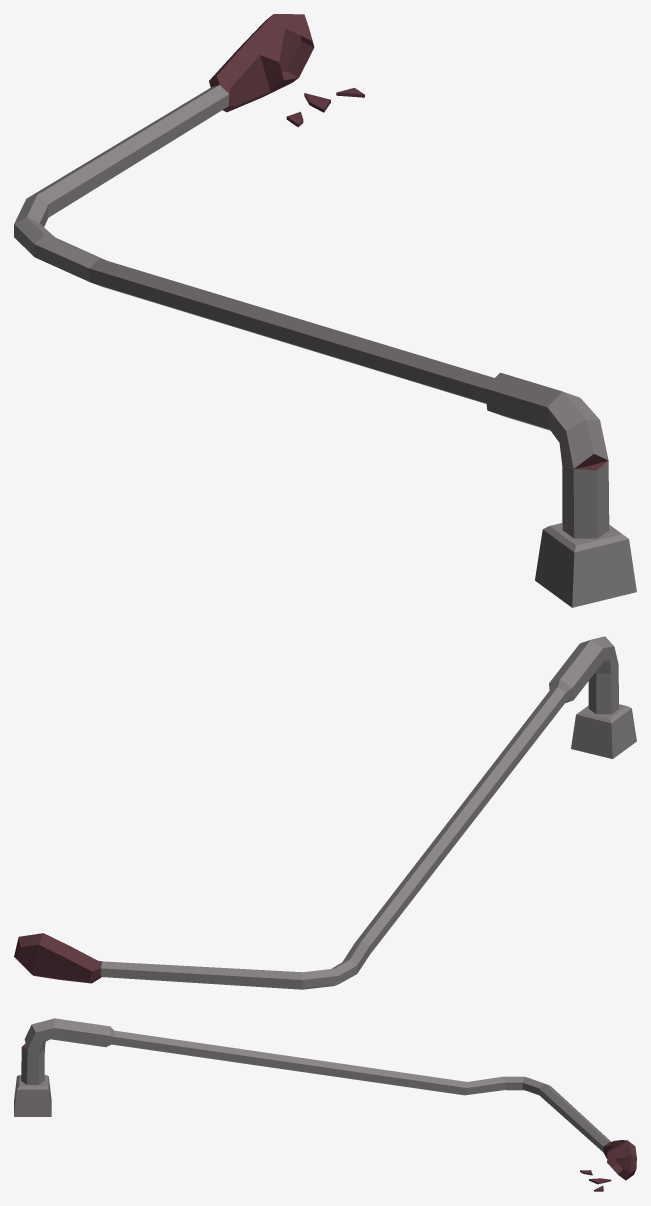
The model's file is lamp-road-apocalypse-c.fbx.
3 renders of one model, top to bottom at view 1: azimuth 30°, elevation 25°; view 2: azimuth 150°, elevation 25°; view 3: azimuth 270°, elevation 25°, orthographic. The views are drawn at different scales.
Parts seen in each view (by area): view 1: lamp-road-apocalypse-c; view 2: lamp-road-apocalypse-c; view 3: lamp-road-apocalypse-c.
Boxes of the visible parts, x1,y1,x2,y2 form: lamp-road-apocalypse-c: (14,14,636,607); lamp-road-apocalypse-c: (14,636,636,989); lamp-road-apocalypse-c: (14,1018,636,1191).
Size of the model in its own units: 3.57 by 1.46 by 9.08.
